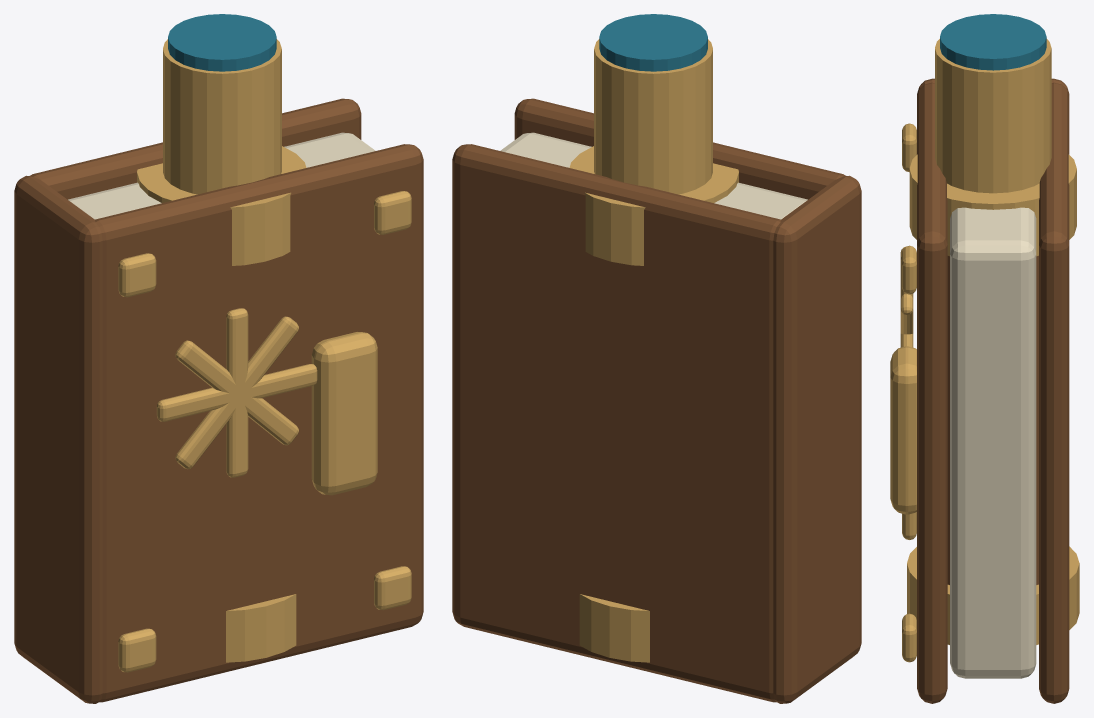
File: props-v01.glb
3 views of the same model, side by side, from view 1: azimuth 30°, elevation 25°; view 2: azimuth 150°, elevation 25°; view 3: azimuth 270°, elevation 25° (orthographic).
Parts seen in each view (by area): view 1: Cover, Spine, Telescope section.003, Clasp, Cover.001, Telescope section.001, Telescope section.004, Telescope section.002, Pages, Star, Star.001, Star.002 (+5 smaller); view 2: Cover.001, Spine, Telescope section.003, Cover, Telescope section.001, Telescope section.004, Telescope section.002, Pages; view 3: Pages, Cover.001, Cover, Telescope section.003, Telescope section.004, Clasp, Telescope section.001, Telescope section, Telescope section.002, Corner.002, Corner.003, Corner.001 (+2 smaller).
Boxes of the visible parts, x1,y1,x2,y2 form: Cover: [95, 144, 423, 702]; Spine: [14, 175, 102, 703]; Telescope section.003: [163, 39, 281, 194]; Clasp: [311, 332, 377, 495]; Cover.001: [30, 98, 361, 199]; Telescope section.001: [137, 146, 306, 265]; Telescope section.004: [168, 14, 276, 71]; Telescope section.002: [226, 594, 296, 662]; Pages: [68, 132, 375, 219]; Star: [226, 308, 248, 477]; Star.001: [175, 316, 298, 469]; Star.002: [156, 364, 317, 421]; Cover.001: [452, 144, 780, 702]; Spine: [773, 175, 861, 703]; Telescope section.003: [594, 39, 712, 194]; Cover: [514, 98, 845, 199]; Telescope section.001: [569, 146, 738, 265]; Telescope section.004: [599, 14, 707, 71]; Telescope section.002: [579, 594, 649, 662]; Pages: [500, 132, 807, 219]; Pages: [950, 207, 1036, 678]; Cover.001: [1039, 82, 1069, 703]; Cover: [917, 82, 947, 703]; Telescope section.003: [935, 39, 1051, 193]; Telescope section.004: [940, 14, 1046, 70]; Clasp: [890, 346, 916, 514]; Telescope section.001: [909, 154, 1076, 256]; Telescope section: [947, 255, 1038, 584]; Telescope section.002: [907, 546, 1079, 644]; Corner.002: [902, 613, 916, 662]; Corner.003: [902, 245, 916, 294]; Corner.001: [902, 123, 916, 172].
Bounding box in the file's own units: 0.153 × 0.2575 × 0.0745.
